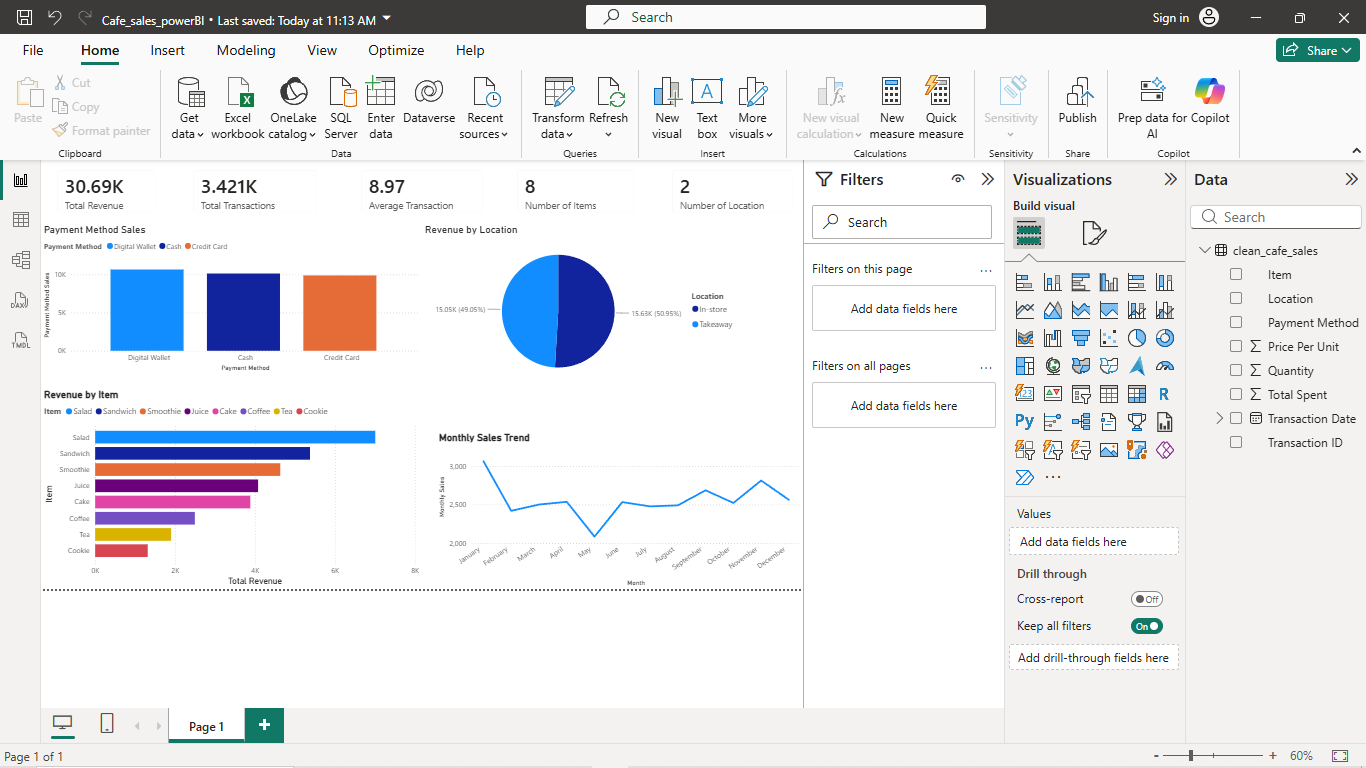

This screenshot's page, from the dashboard's own definition file:
{"tool":"powerbi","page":{"name":"Page 1","canvas":[1280,720],"ordinal":0},"visuals":[{"type":"cardVisual","fields":{"Data":["Sum(clean_cafe_sales.Total Spent)"]},"box":[10.1,0,199.9,105.8],"z":0},{"type":"cardVisual","fields":{"Data":["CountNonNull(clean_cafe_sales.Transaction ID)"]},"box":[238.5,0,241.9,105.8],"z":1000},{"type":"cardVisual","fields":{"Data":["Avg(clean_cafe_sales.Total Spent)"]},"box":[520.7,0,238.5,105.8],"z":2000},{"type":"cardVisual","fields":{"Data":["Count(clean_cafe_sales.Item)"]},"box":[782.8,0,231.8,105.8],"z":3000},{"type":"cardVisual","fields":{"Data":["Count(clean_cafe_sales.Location)"]},"box":[1043.1,0,236.9,105.8],"z":4000},{"type":"lineChart","title":"Monthly Sales Trend","fields":{"Category":["clean_cafe_sales.Transaction Date.Variation.Date Hierarchy.Month"],"Y":["Sum(clean_cafe_sales.Total Spent)"]},"box":[663.5,455.2,616.5,265.4],"z":5000},{"type":"columnChart","title":"Payment Method Sales","fields":{"Category":["clean_cafe_sales.Payment Method"],"Y":["Sum(clean_cafe_sales.Total Spent)"],"Series":["clean_cafe_sales.Payment Method"]},"box":[0,105.8,640,253.6],"z":5001},{"type":"pieChart","title":"Revenue by Location","fields":{"Y":["Sum(clean_cafe_sales.Total Spent)"],"Category":["clean_cafe_sales.Location"]},"box":[640,105.8,535.9,277.2],"z":5002},{"type":"barChart","title":"Revenue by Item","fields":{"Category":["clean_cafe_sales.Item"],"Y":["Sum(clean_cafe_sales.Total Spent)"],"Series":["clean_cafe_sales.Item"]},"box":[0,383,640,337.6],"z":5003}]}

Visuals, with their boxes on the page's 1280x720 design canvas (x1, y1, x2, y2). These are canvas units, not pixel positions in the 1366x768 screenshot, which may show the page scaled, cropped or inside an application window:
cardVisual - Sum(clean_cafe_sales.Total Spent): box=[10, 0, 210, 106]
cardVisual - CountNonNull(clean_cafe_sales.Transaction ID): box=[238, 0, 480, 106]
cardVisual - Avg(clean_cafe_sales.Total Spent): box=[521, 0, 759, 106]
cardVisual - Count(clean_cafe_sales.Item): box=[783, 0, 1015, 106]
cardVisual - Count(clean_cafe_sales.Location): box=[1043, 0, 1280, 106]
"Monthly Sales Trend" lineChart: box=[664, 455, 1280, 721]
"Payment Method Sales" columnChart: box=[0, 106, 640, 359]
"Revenue by Location" pieChart: box=[640, 106, 1176, 383]
"Revenue by Item" barChart: box=[0, 383, 640, 721]
